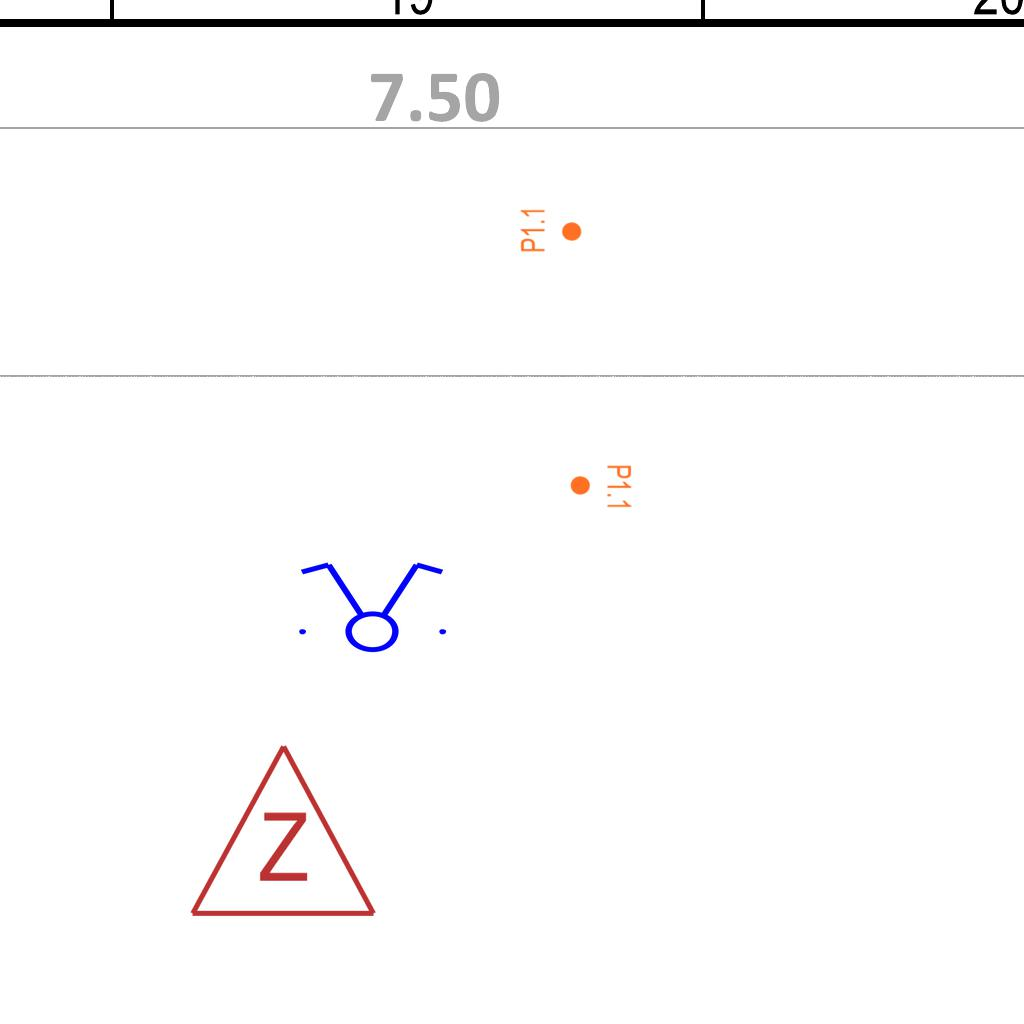Downlight_LED_Einbauleuchten_Flur: (519, 207, 583, 253), (569, 464, 633, 510)
Serienschalter: (287, 558, 455, 654)
Zimmersignalleuchte: (183, 731, 379, 931)
